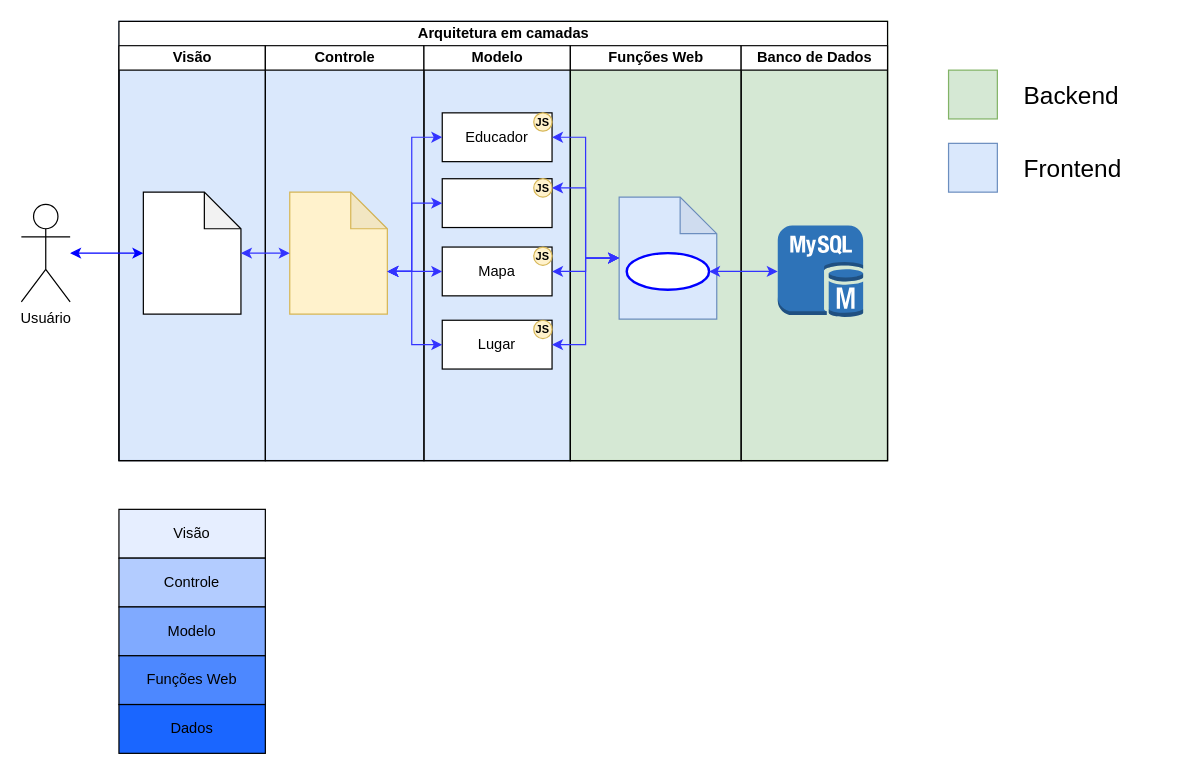
This 1190x775 diagram has some shape labels left out. Each missing label, with the box of its shape:
HTML + CSS: (142, 191, 241, 314)
Javascript: (289, 191, 387, 314)
Jogador: (441, 178, 552, 228)
php: (625, 251, 710, 290)
